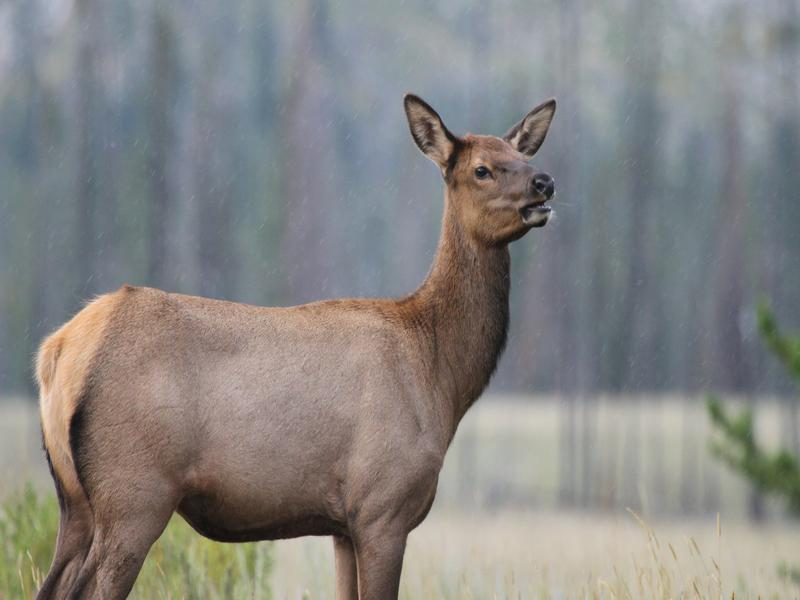elk: (35, 99, 560, 600)
